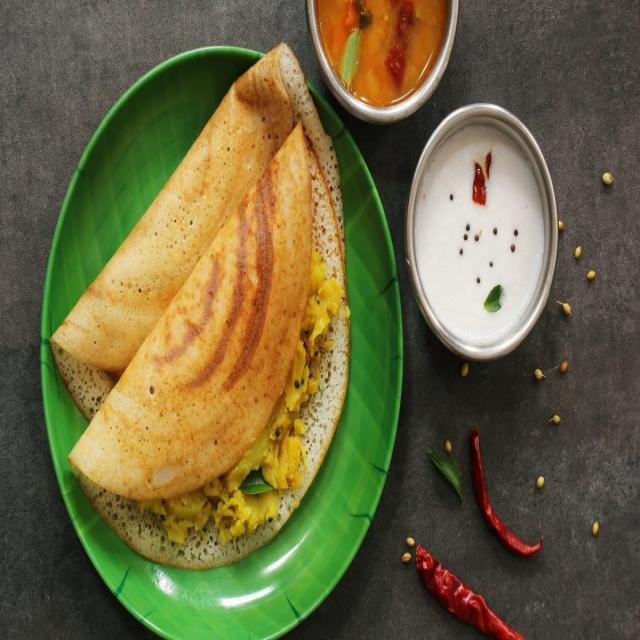chutney: (414, 107, 552, 350)
masala_dosa: (47, 41, 340, 592)
sambhar: (291, 2, 465, 106)
